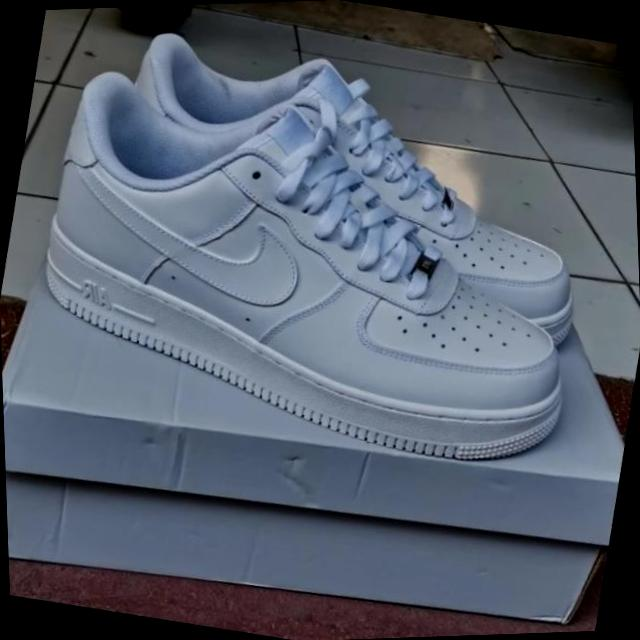nike_fake_airforce: (16, 48, 618, 496), (94, 12, 616, 366)
